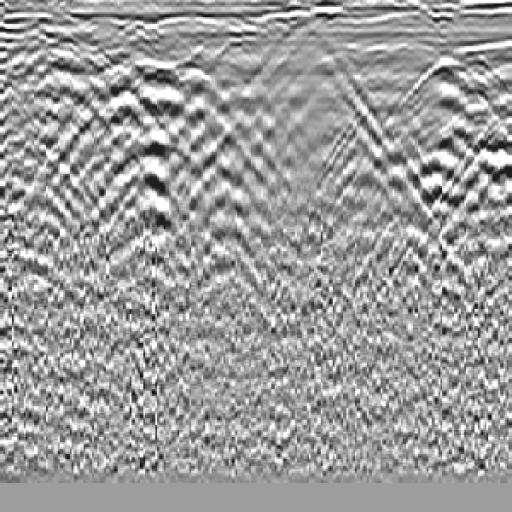non-metallic: (61, 53, 269, 290), (363, 30, 512, 272)
